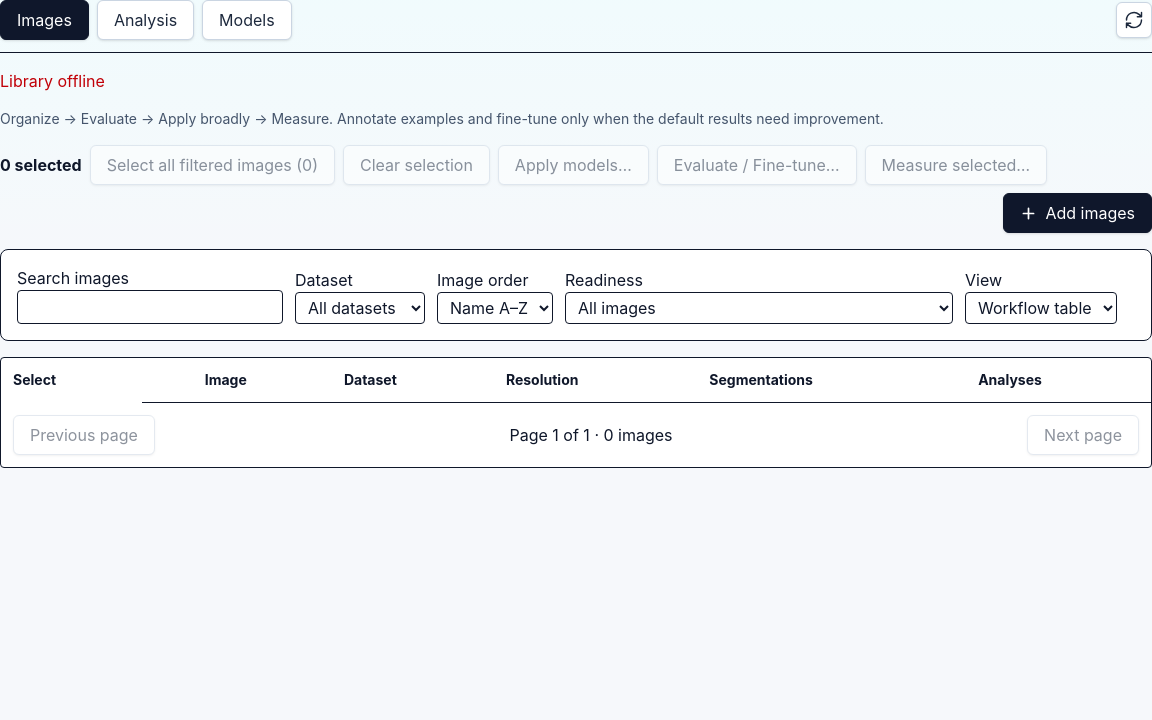
Test: Experiment workbench › shows a loading failure with a working retry
The image size is (1152, 720).
Expected: the message reads "Library offline", [0,71,105,91]
Click the button named "Refresh status" at coordinates (1134, 20), box [1116,2,1151,38]
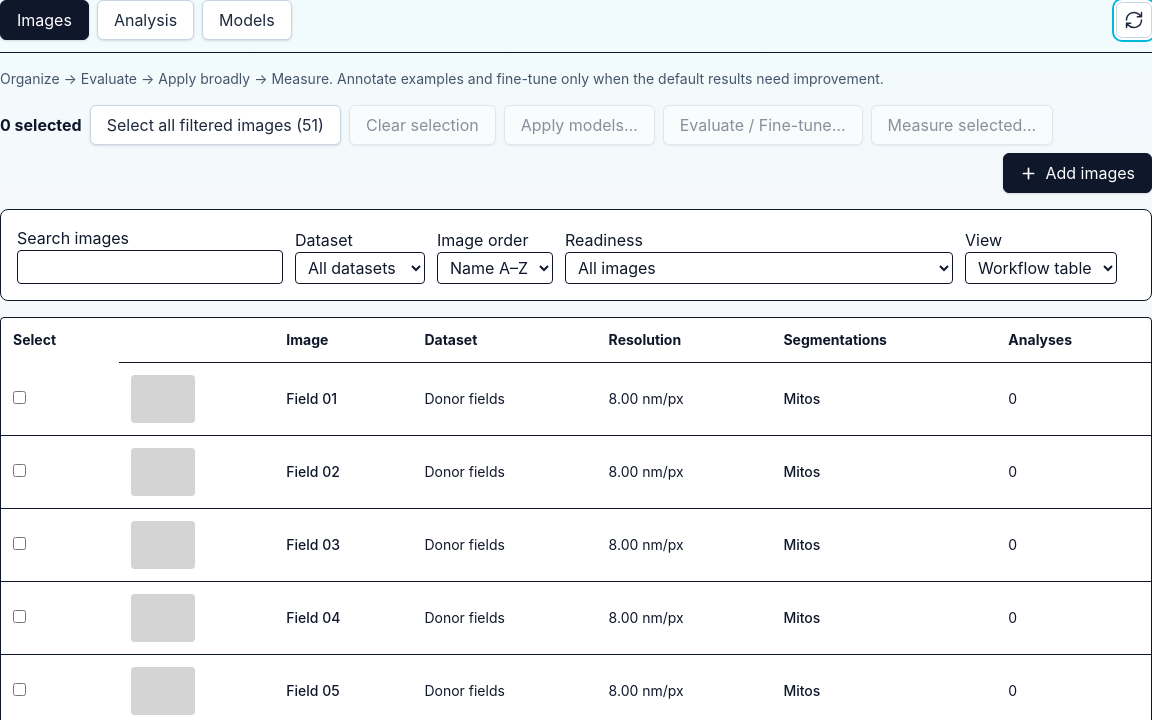
Expected: the link "Field 01" is shown, [286,389,337,409]
Expected: the message "Library offline" is gone
